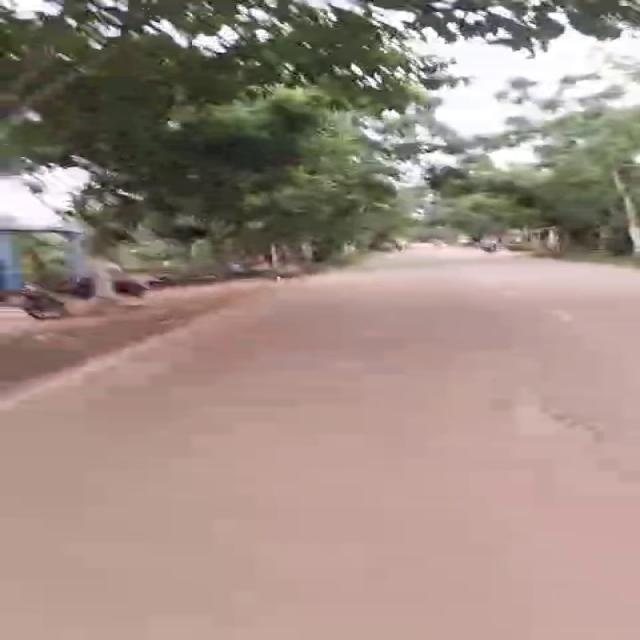pothole: (517, 390, 605, 460)
